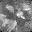people: (16, 8, 25, 20), (5, 4, 14, 14), (8, 21, 17, 31), (2, 19, 10, 27), (0, 13, 8, 20)
